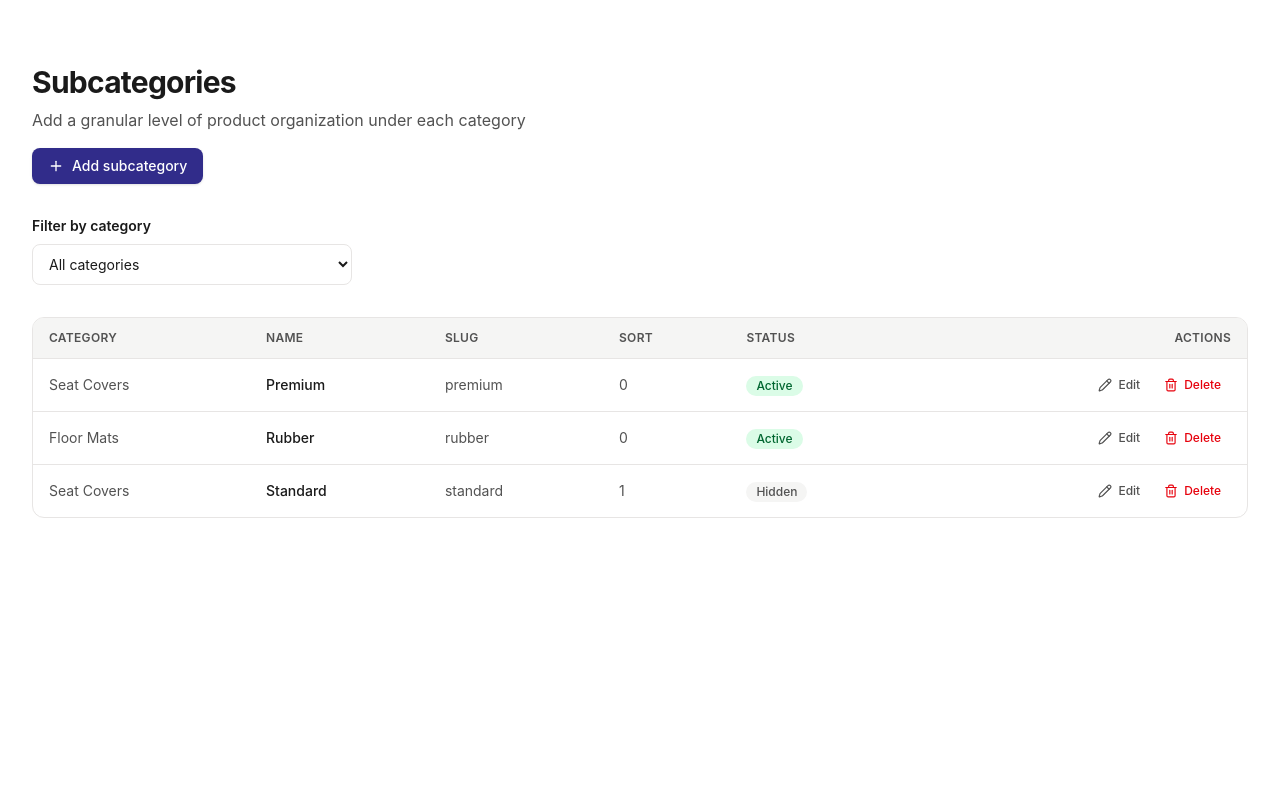
it: SubcategoriesAdminPage › creates a subcategory under the selected category
The width and height of the screenshot is (1280, 800).
Expected: the text "Premium" is shown, [250,358,429,412]
Click the button "Add subcategory" at {"x": 118, "y": 166}, box [32,148,203,184]
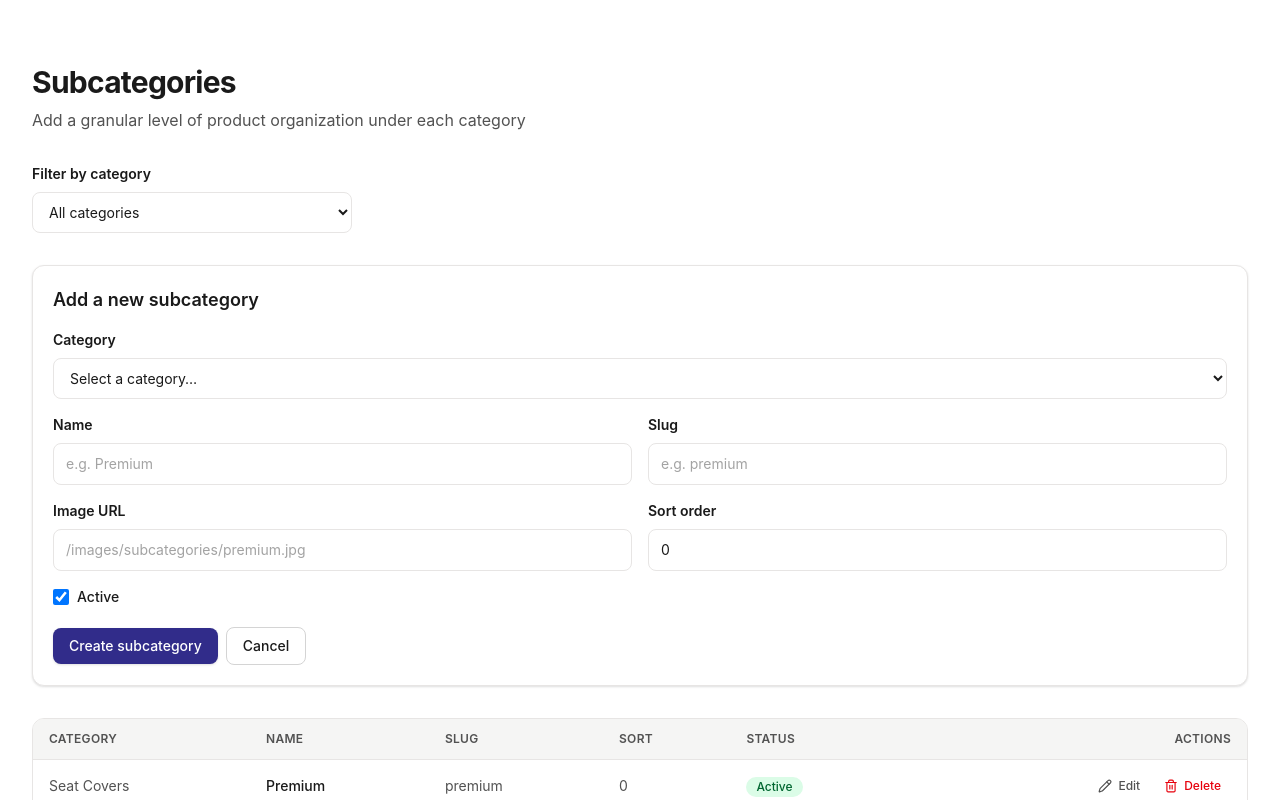
Select "Seat Covers" in the dropdown labelled "Category" at {"x": 640, "y": 378}, box [53,358,1227,399]
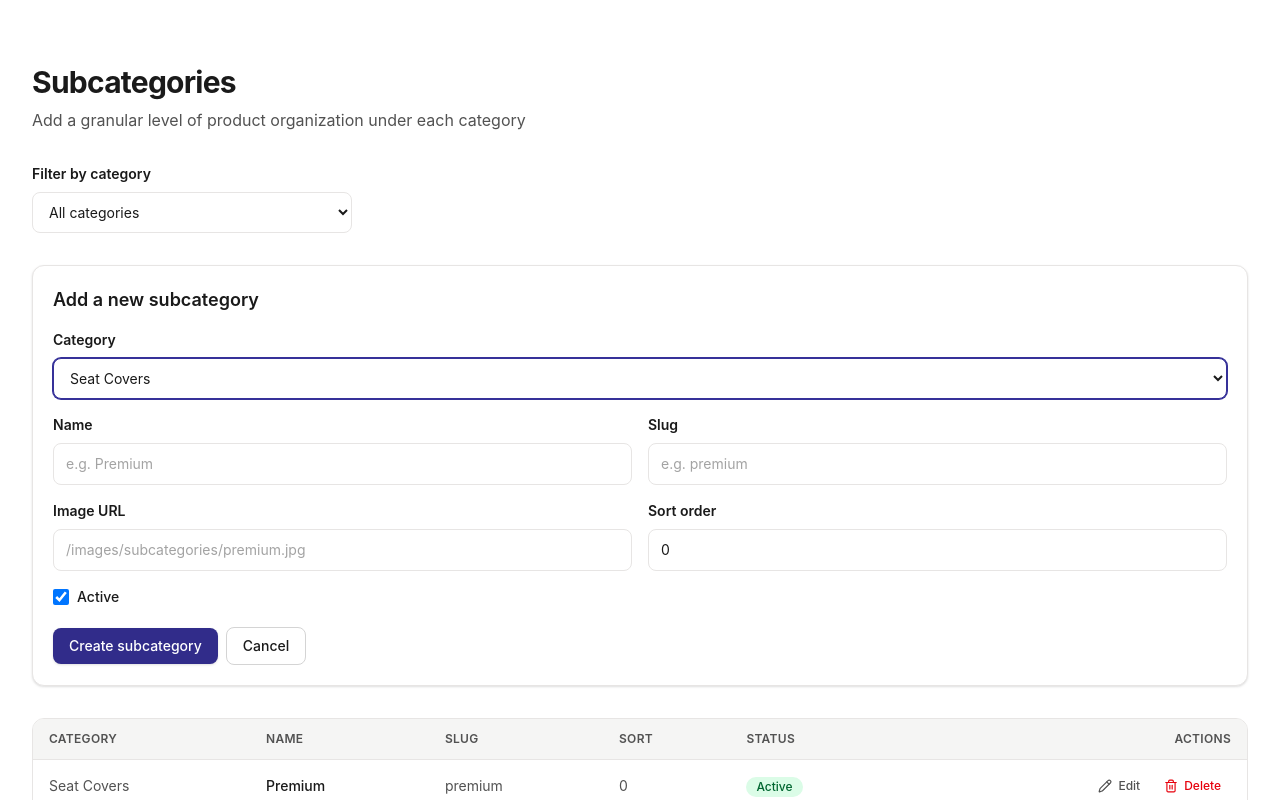
Type "Deluxe" into the field labelled "Name" at {"x": 342, "y": 464}, box [53,443,632,485]
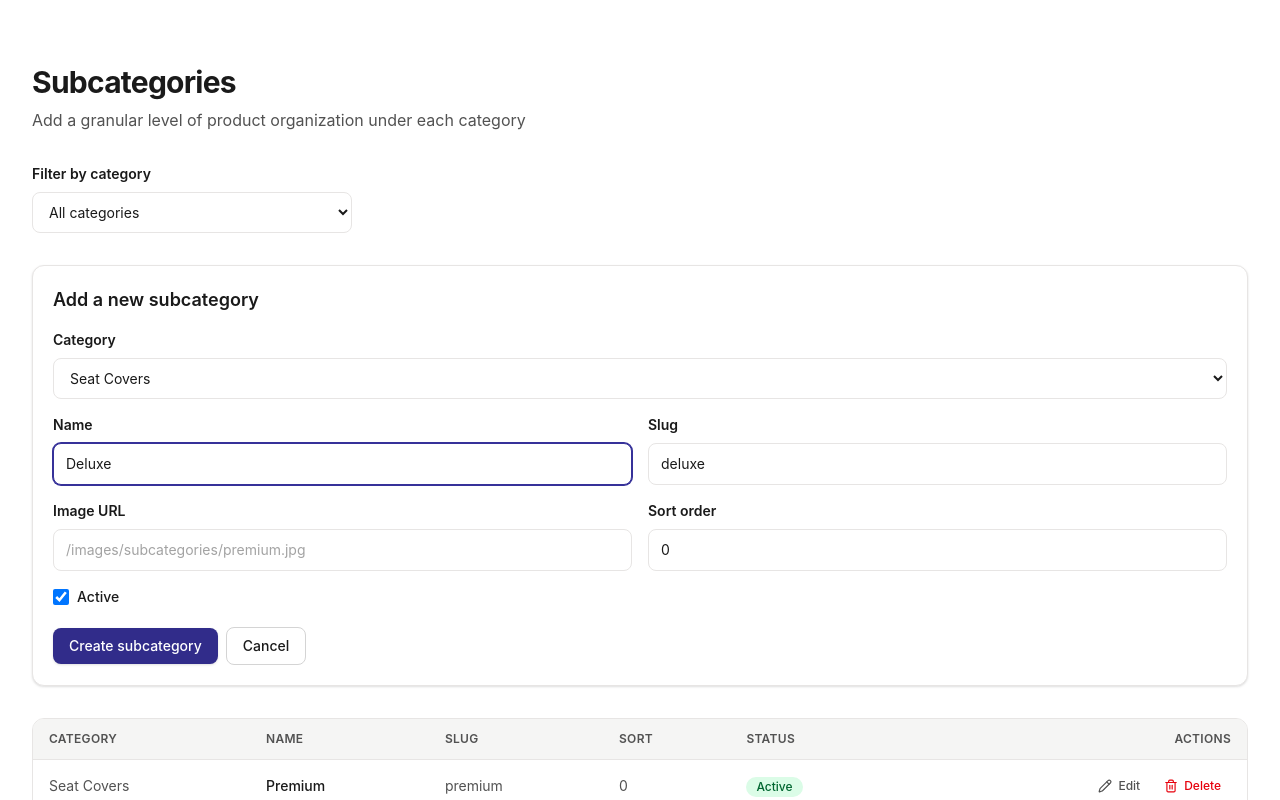
Click the button "Create subcategory" at {"x": 135, "y": 646}, box [53,628,218,664]
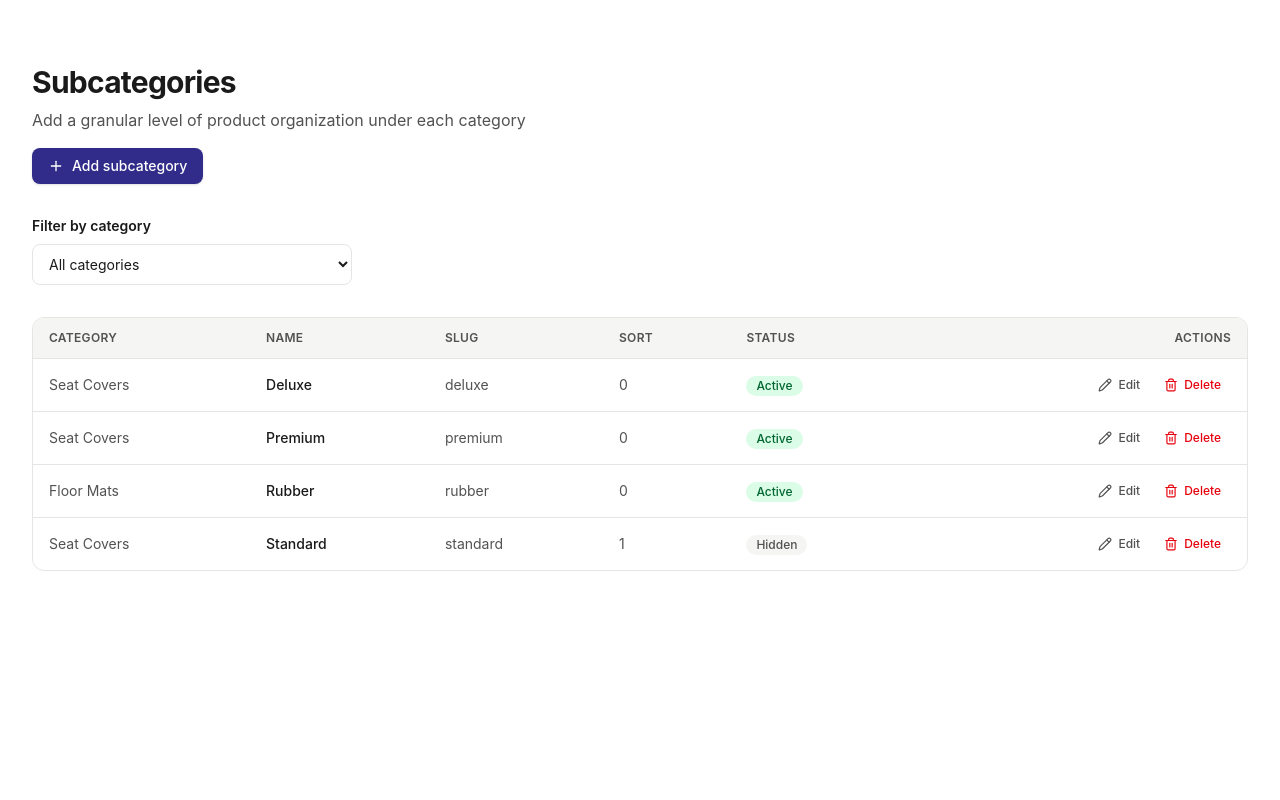
Expected: the row "Seat Covers Deluxe deluxe 0 Active Edit Delete" is shown, [33,358,1247,412]
